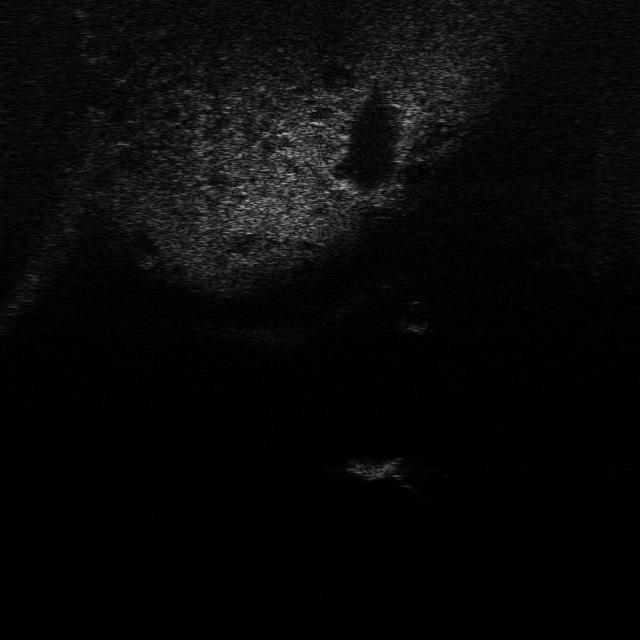ball: (392, 300, 434, 335)
cube: (344, 453, 404, 483)
